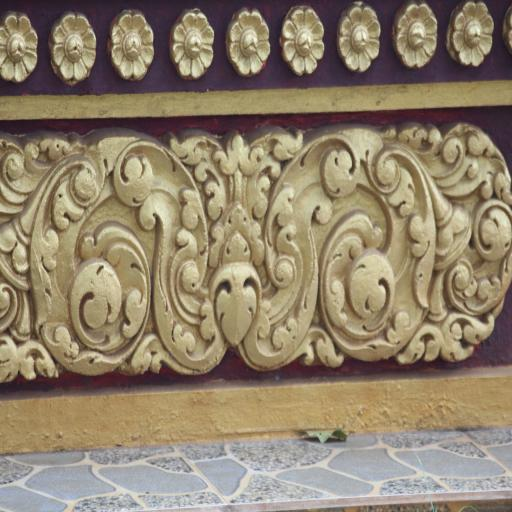hoa: (44, 12, 100, 89), (168, 10, 220, 82), (108, 9, 158, 83), (447, 2, 498, 70), (281, 5, 327, 77), (0, 10, 43, 85), (226, 8, 273, 76), (339, 6, 383, 73), (394, 5, 438, 72)
la: (238, 125, 512, 375), (1, 128, 240, 382)
